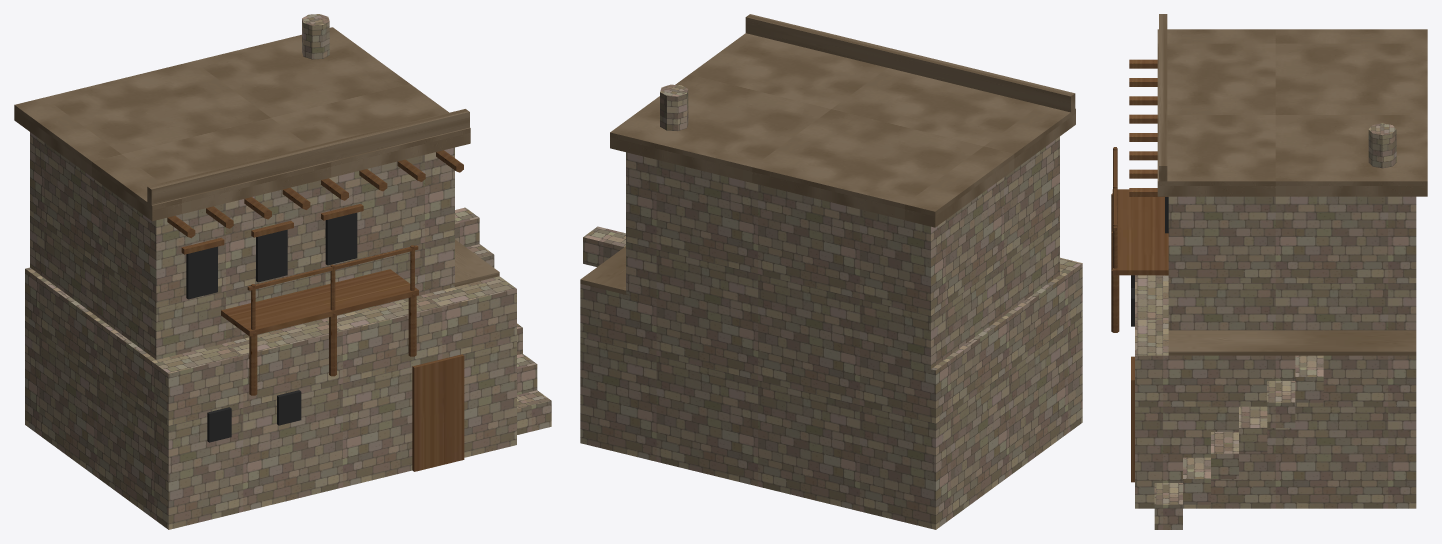
File: house_saklya_2f.glb
The picture shows the model from 3 angles, left to right: view 1: azimuth 30°, elevation 25°; view 2: azimuth 150°, elevation 25°; view 3: azimuth 270°, elevation 25°; orthographic projection. The views are drawn at different scales.
Visible parts, largest first — view 1: House_Saklya_2F; view 2: House_Saklya_2F; view 3: House_Saklya_2F.
Boxes of the visible parts, bbox=[...] form: House_Saklya_2F: bbox=[14, 14, 551, 529]; House_Saklya_2F: bbox=[580, 14, 1082, 529]; House_Saklya_2F: bbox=[1111, 14, 1427, 529].
Bounding box in the file's own units: 8 × 6.74 × 5.62.
Materials: 4 (3 with a texture image).
